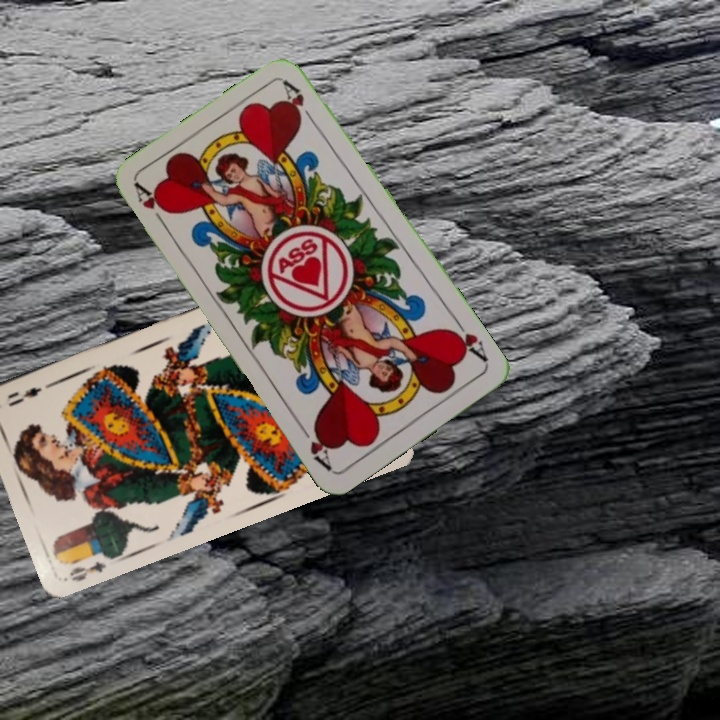EO: (65, 557, 109, 584)
HA: (444, 314, 491, 365), (131, 180, 172, 233)
